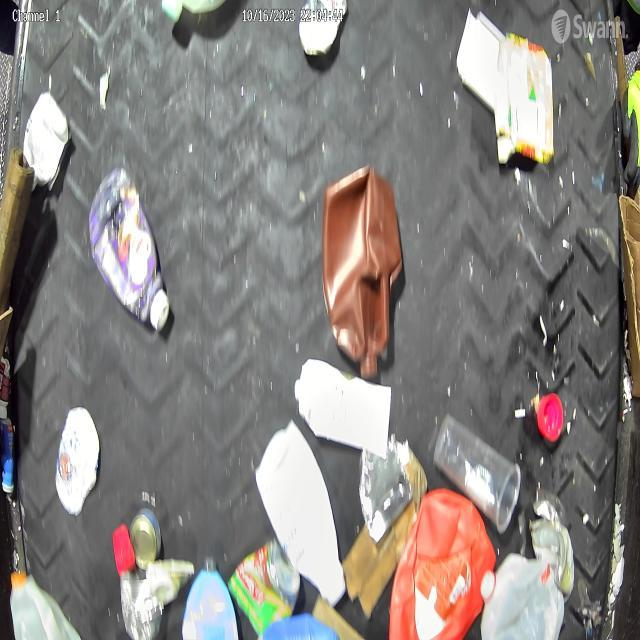can: (228, 538, 302, 640), (126, 500, 162, 580)
milk_jug: (478, 547, 566, 640)
non_white_jug: (322, 162, 402, 388), (387, 483, 499, 640), (182, 557, 238, 640)
